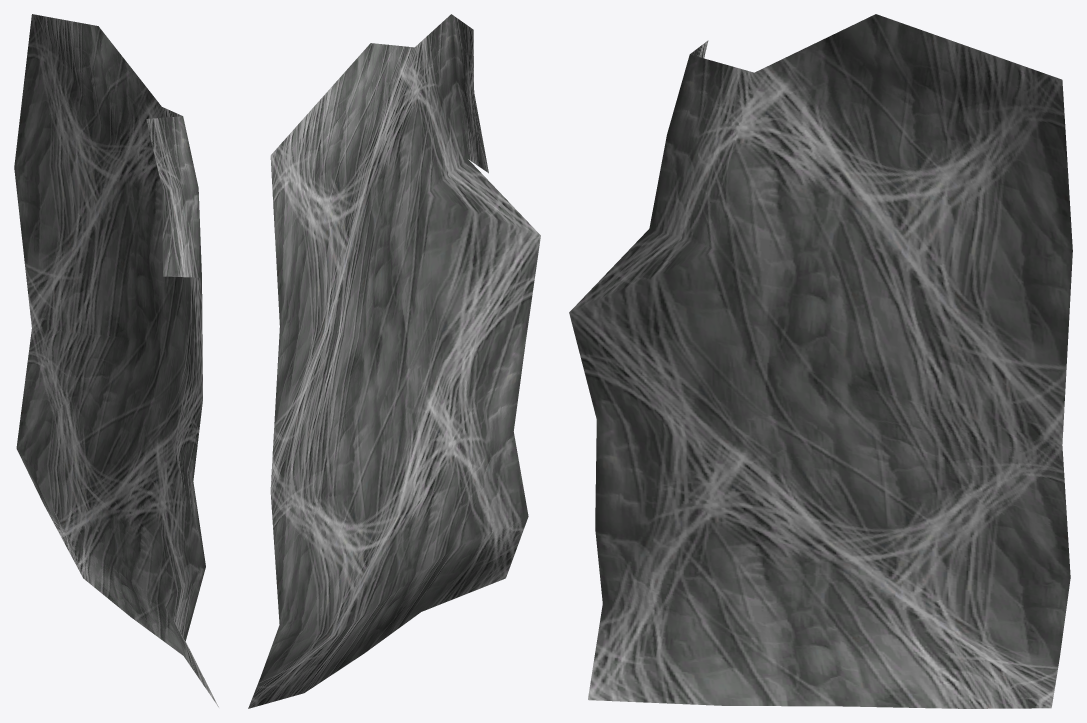
Rendered from SWORDLIGHT20_PS-AREA01_35.fbx.
The picture shows the model from 3 angles, left to right: view 1: azimuth 30°, elevation 25°; view 2: azimuth 150°, elevation 25°; view 3: azimuth 270°, elevation 25°; orthographic projection. The views are drawn at different scales.
Visible parts, largest first — view 1: SWORDLIGHT20_PS-AREA01_35; view 2: SWORDLIGHT20_PS-AREA01_35; view 3: SWORDLIGHT20_PS-AREA01_35.
Part boxes in pixels (<box>): SWORDLIGHT20_PS-AREA01_35: <box>14,14,218,707</box>; SWORDLIGHT20_PS-AREA01_35: <box>248,14,540,708</box>; SWORDLIGHT20_PS-AREA01_35: <box>569,14,1072,708</box>.
Bounding box in the file's own units: 11427 × 92639 × 61510.
1 material, 1 textured.
